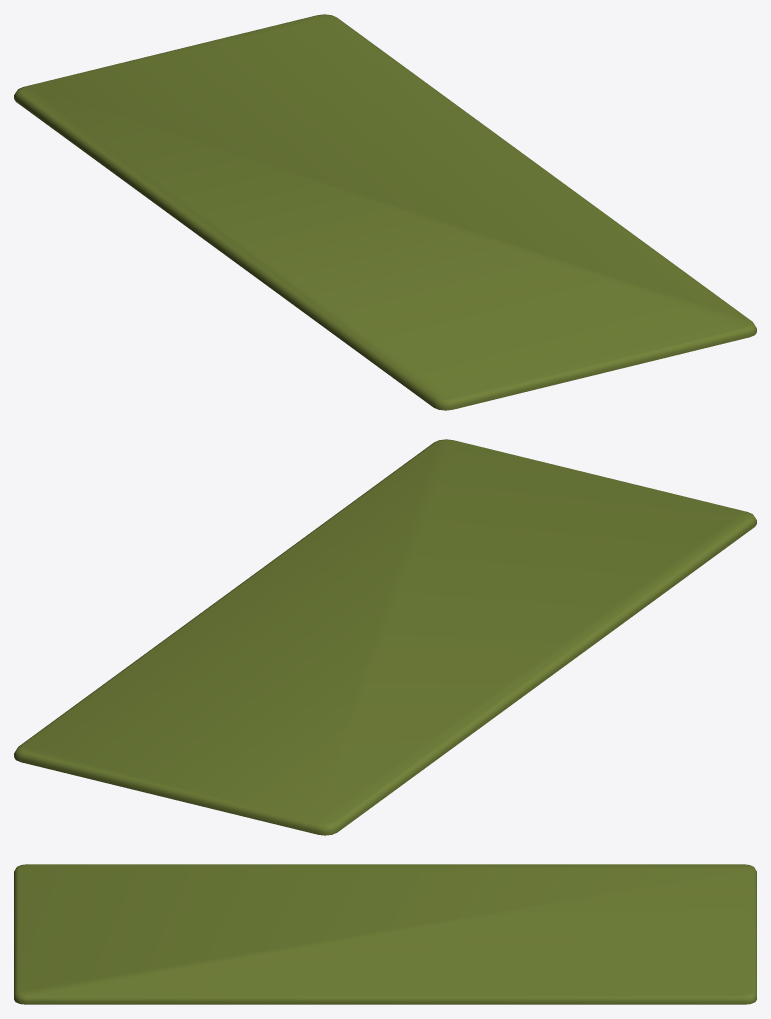
The model's file is Floor (Big grass).fbx.
The picture shows the model from 3 angles, top to bottom: view 1: azimuth 30°, elevation 25°; view 2: azimuth 150°, elevation 25°; view 3: azimuth 270°, elevation 25°; orthographic projection. The views are drawn at different scales.
Visible parts, largest first — view 1: Floor (Grass Floor (Big grass)); view 2: Floor (Grass Floor (Big grass)); view 3: Floor (Grass Floor (Big grass)).
Part boxes in pixels (box(x1,y1,x2,y2)): Floor (Grass Floor (Big grass)): box(14, 14, 756, 410); Floor (Grass Floor (Big grass)): box(14, 439, 756, 835); Floor (Grass Floor (Big grass)): box(14, 864, 756, 1004).
Bounding box in the file's own units: 16957 × 427 × 39450.
